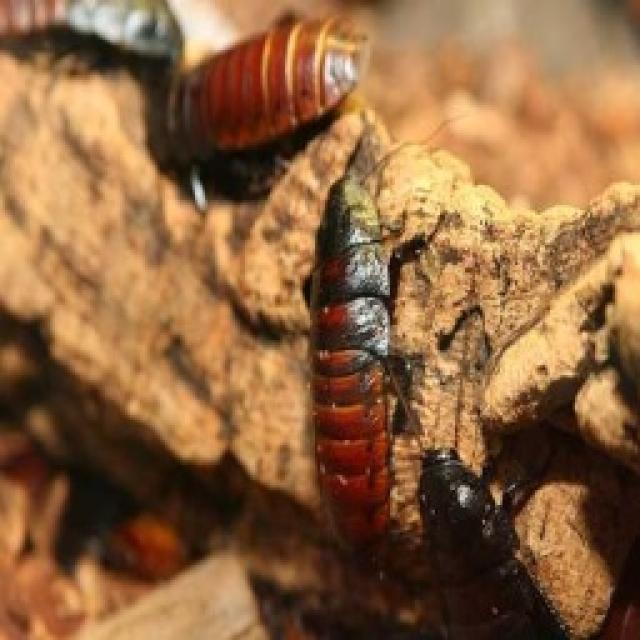cockroach: (302, 152, 406, 560)
